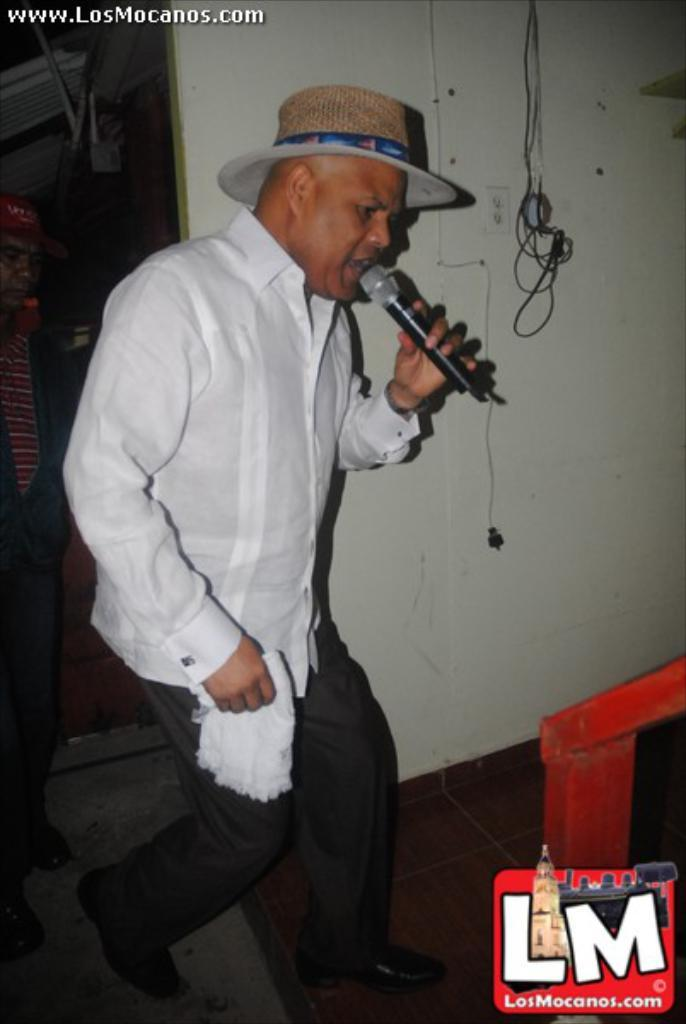Hat: (215, 86, 459, 212)
